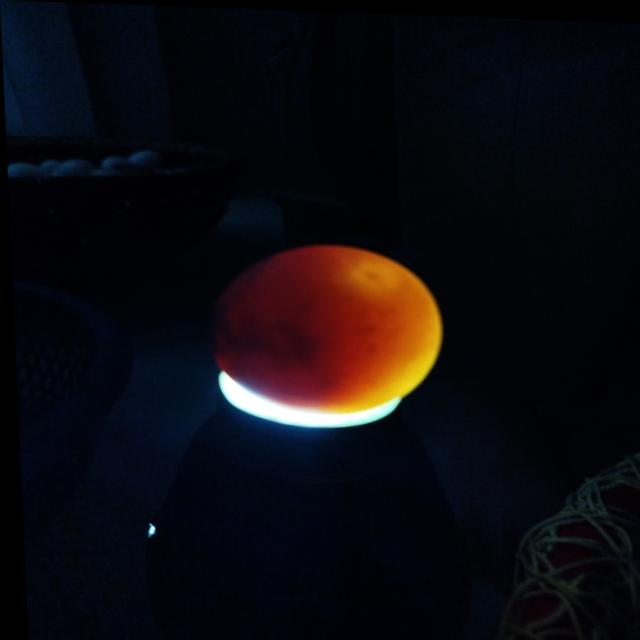Area Infectada: (210, 256, 316, 394)
